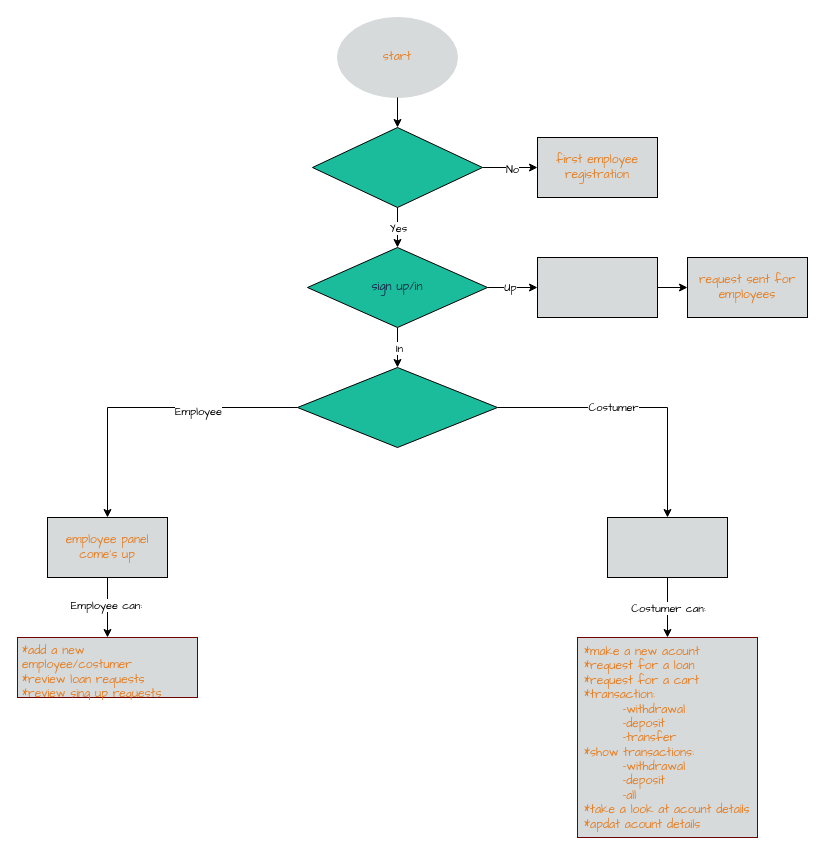
This 825x855 diagram has some shape labels left out. Each missing label, with the box of its shape:
costumer panel come's up: (606, 516, 728, 578)
Fill out the registration form: (536, 256, 658, 318)
is there any employee؟: (312, 126, 482, 208)
it's employee or costumer?: (296, 366, 498, 448)
